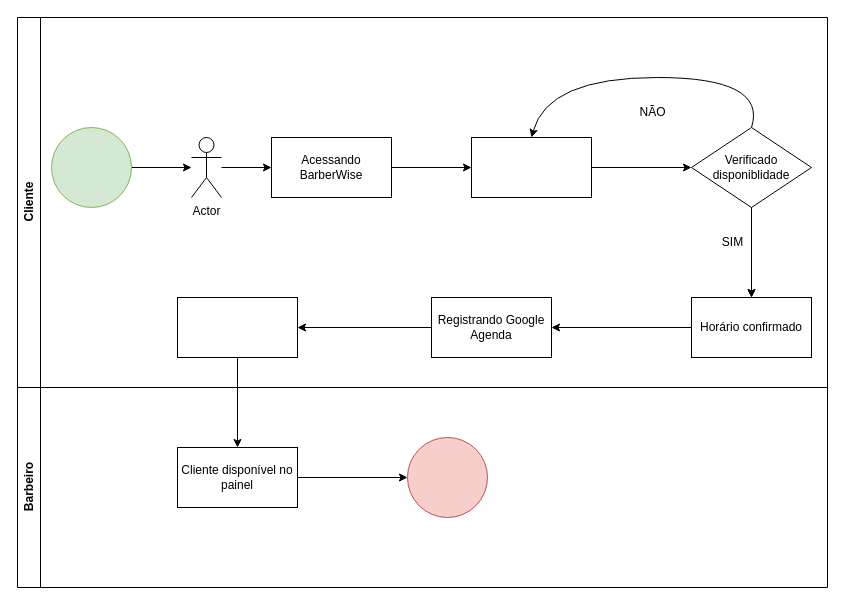
Image size: 845x605. Some labels were removed from this diagram. Each missing label, with the box of its shape:
Confirmando Agendamento com Cliente: (176, 296, 298, 358)
FIM: (406, 436, 488, 518)
Inicio: (50, 126, 132, 208)
Seleciona Data/Hora desejada: (470, 136, 592, 198)
